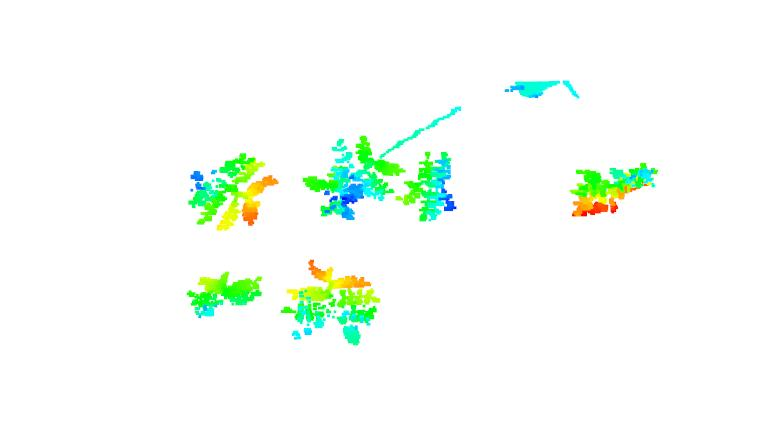chickpea: (307, 136, 402, 220), (286, 260, 377, 345), (188, 152, 283, 228), (569, 159, 661, 219), (399, 149, 456, 222), (187, 271, 265, 322)
